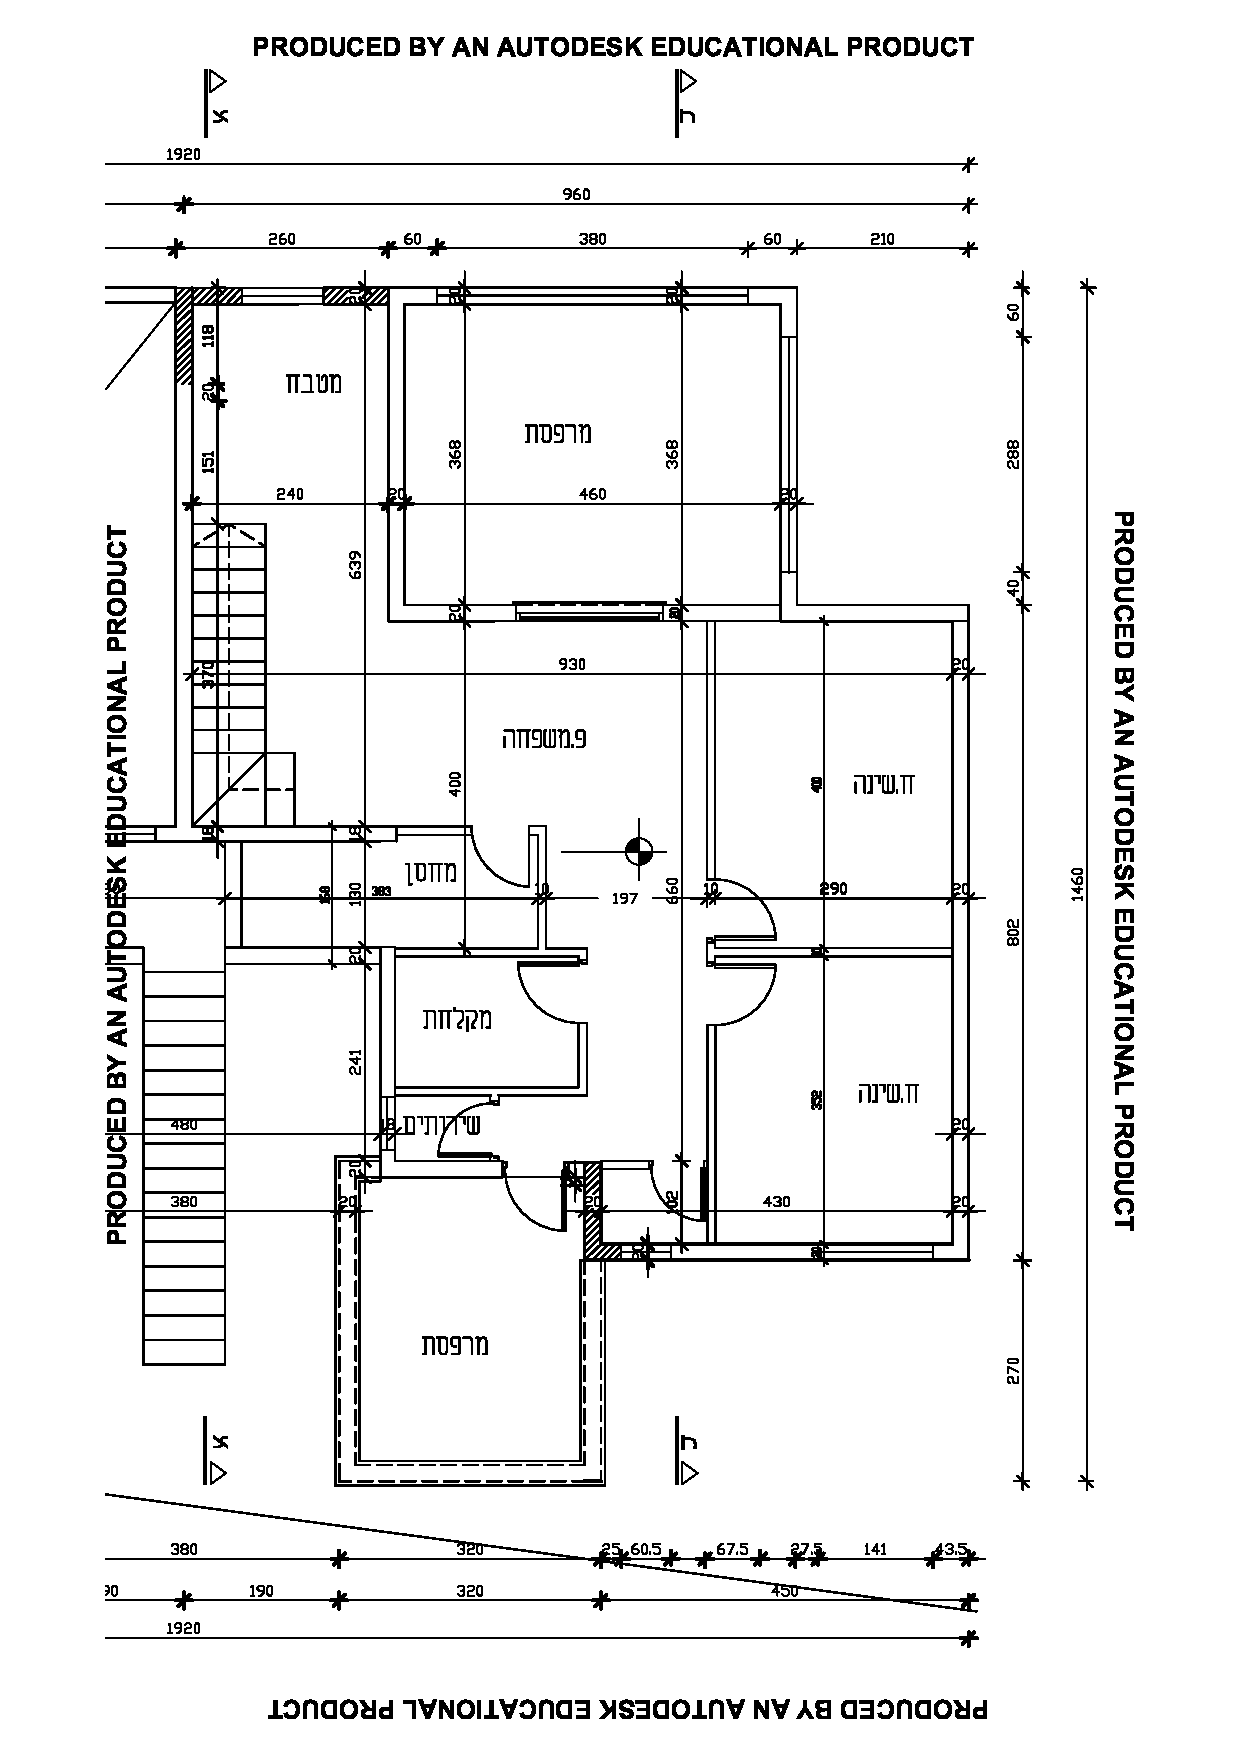door: (717, 961, 794, 1041), (497, 954, 574, 1033), (501, 1172, 578, 1251), (463, 839, 533, 892)
window: (828, 1245, 938, 1257)
